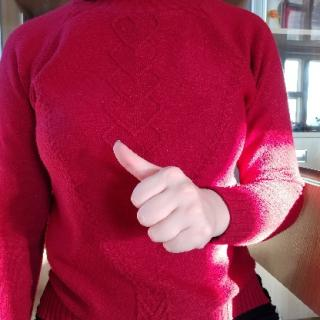ALIF: (109, 135, 213, 258)
